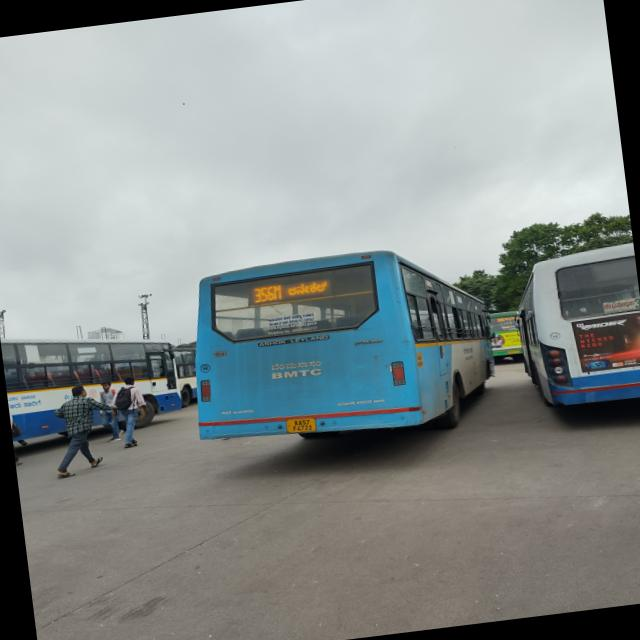bus: (179, 232, 507, 469), (0, 302, 190, 470), (502, 239, 640, 428)
display: (246, 270, 346, 306), (596, 293, 640, 320)
dnumber: (249, 280, 286, 306)
